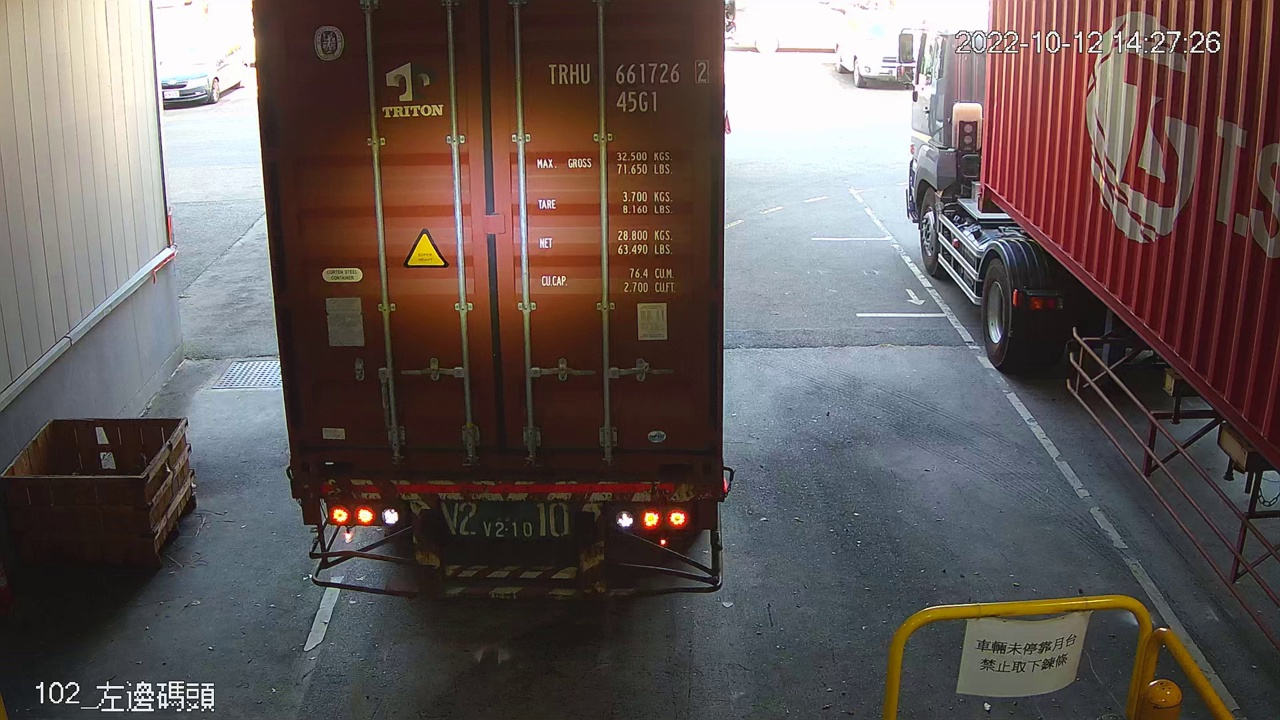container: (540, 53, 715, 117)
